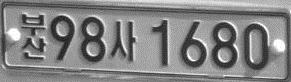0: (242, 22, 269, 70)
1: (149, 19, 174, 65)
6: (180, 21, 207, 67)
8: (211, 21, 238, 68), (80, 15, 106, 62)
9: (50, 14, 76, 60)
부산_V: (20, 12, 46, 59)
사: (110, 20, 135, 62)
